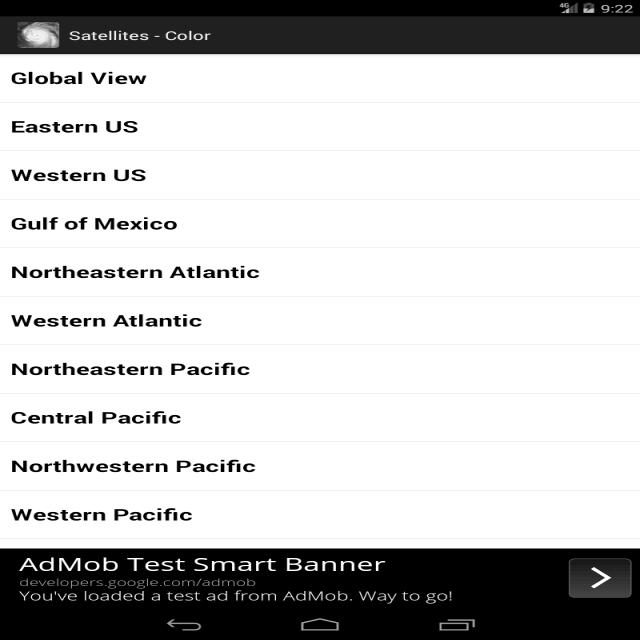Button: (562, 556, 637, 600)
ImageView: (15, 22, 60, 48)
TextView: (16, 553, 400, 603), (8, 261, 262, 285), (4, 356, 258, 378), (2, 455, 265, 475), (67, 24, 215, 47), (8, 68, 153, 88), (6, 164, 152, 182)
